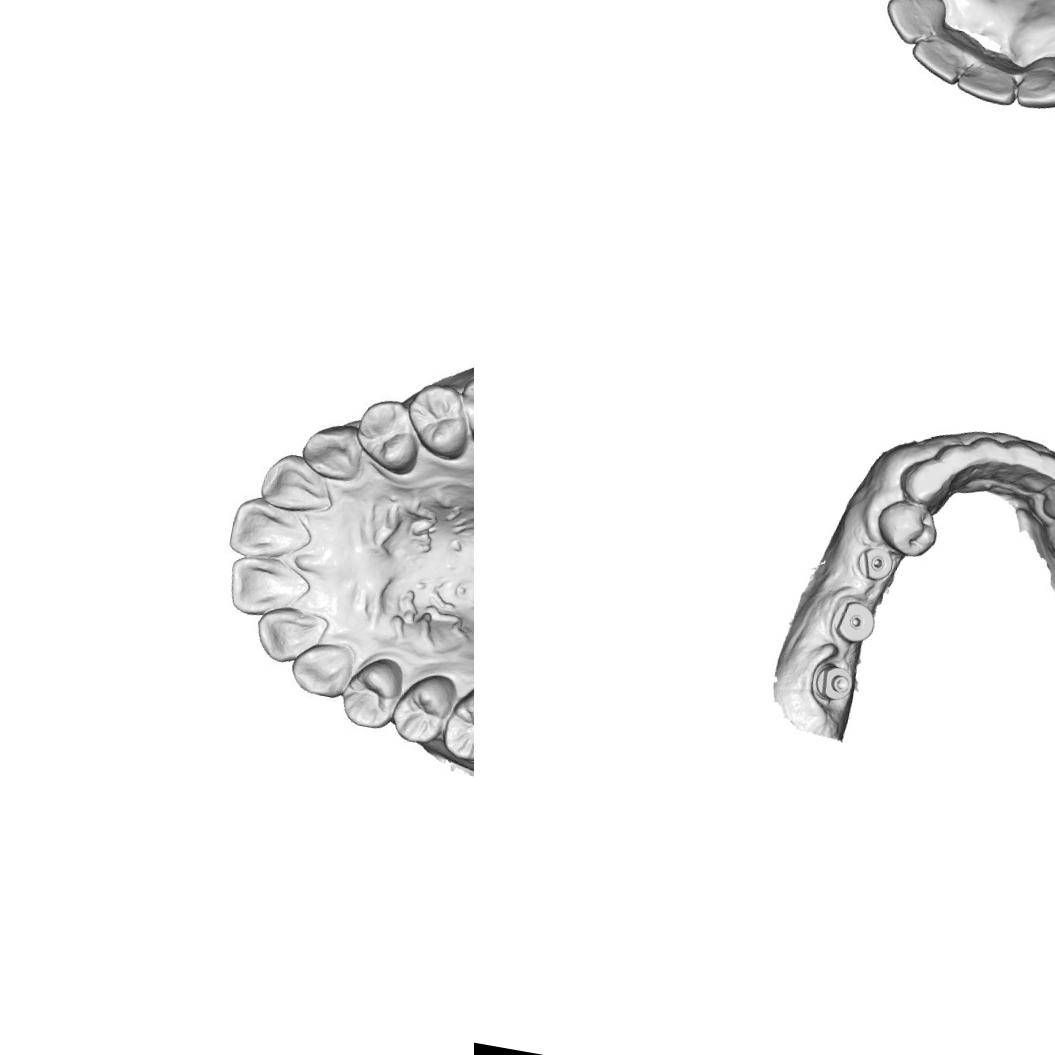canine: (286, 638, 356, 701), (304, 422, 367, 482), (900, 452, 954, 512)
implant: (807, 657, 858, 707), (832, 598, 879, 645), (852, 542, 896, 584)
incisor: (225, 552, 312, 615), (228, 502, 312, 566), (250, 604, 324, 670), (263, 459, 335, 521), (955, 51, 1020, 107), (909, 29, 970, 84), (883, 0, 946, 43), (1015, 55, 1055, 108), (1002, 441, 1040, 484), (966, 433, 1008, 471), (1032, 446, 1055, 496), (937, 444, 974, 474)
molar: (451, 363, 474, 460)
premolar: (384, 666, 454, 746), (341, 654, 406, 728), (354, 401, 420, 472), (871, 497, 942, 560), (409, 384, 470, 454), (439, 679, 474, 781)
